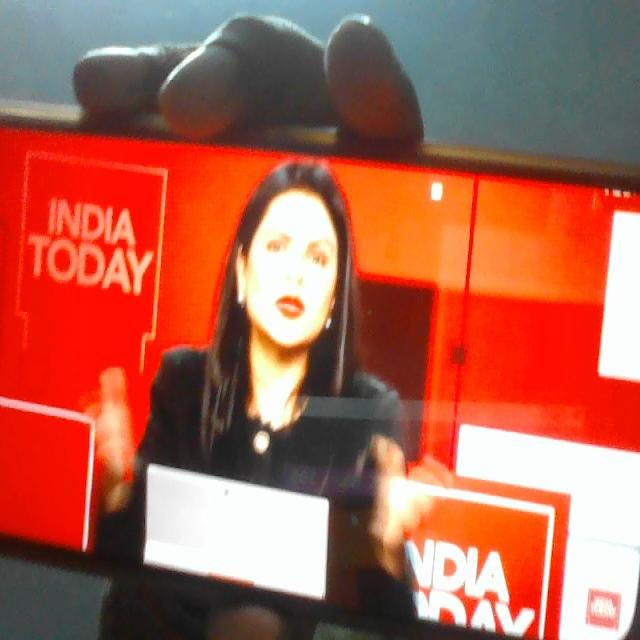fake: (223, 140, 355, 389)
